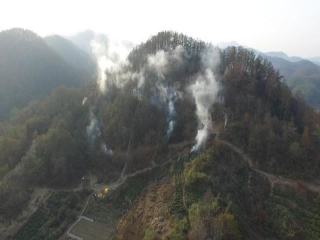smoke: (81, 31, 230, 161)
